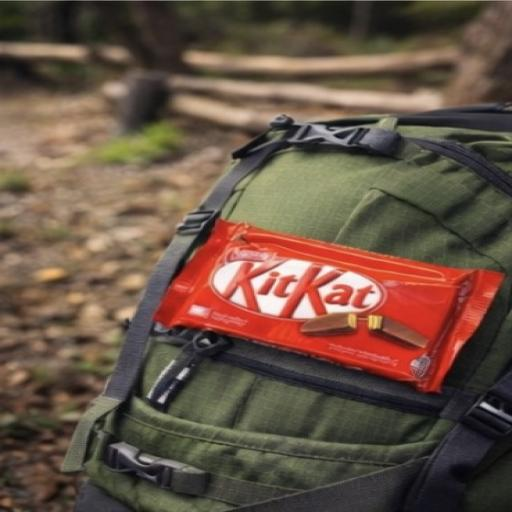kitkat: (148, 193, 512, 450)
